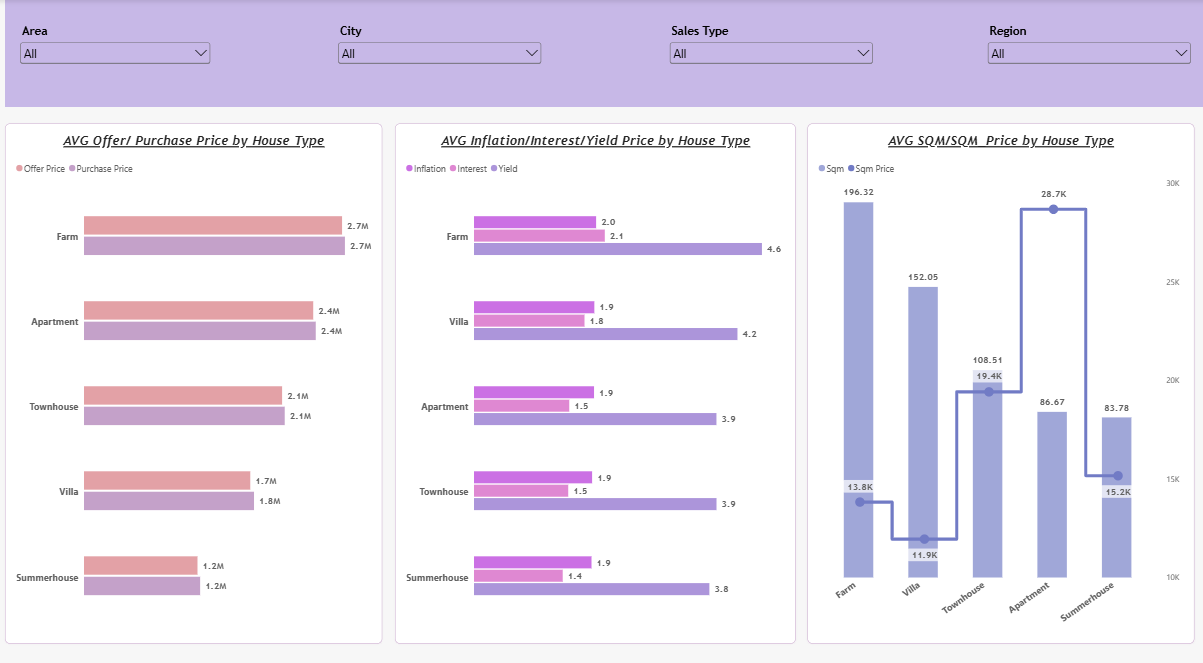

What the dashboard file says about the page in this screenshot:
{"tool":"powerbi","page":{"name":"House Type Analysis","canvas":[1920,1080],"ordinal":2},"visuals":[{"type":"shape","box":[9.5,0,1906.3,171.8],"z":0},{"type":"clusteredBarChart","title":"AVG Offer/ Purchase Price by House Type","fields":{"Category":["Housing Data.house_type"],"Y":["Avg(Housing Data.offer Price)","Avg(Housing Data.purchase_price)"]},"box":[10,197.5,600,827.5],"z":1},{"type":"clusteredBarChart","title":"AVG Inflation/Interest/Yield Price by House Type","fields":{"Category":["Housing Data.house_type"],"Y":["Avg(Housing Data.dk_ann_infl_rate%)","Avg(Housing Data.nom_interest_rate%)","Avg(Housing Data.yield_on_mortgage_credit_bonds%)"]},"box":[630,197.5,637.5,827.5],"z":2},{"type":"lineStackedColumnComboChart","title":"AVG SQM/SQM_Price by House Type","fields":{"Category":["Housing Data.house_type"],"Y":["Avg(Housing Data.sqm)"],"Y2":["Avg(Housing Data.sqm_price)"]},"box":[1285,197.5,615,827.5],"z":3},{"type":"slicer","fields":{"Values":["Housing Data.area"]},"box":[27.5,40,312.5,90],"z":4},{"type":"slicer","fields":{"Values":["Housing Data.city"]},"box":[533.8,40,333,90],"z":5},{"type":"slicer","fields":{"Values":["Housing Data.region"]},"box":[1567.5,40,333,90],"z":7},{"type":"slicer","fields":{"Values":["Housing Data.sales_type"]},"box":[1060.7,40,333,90],"z":8}]}

Visuals, with their boxes in screenshot pixels (x1, y1, x2, y2), scaled from the page's 1920x1080 canvas onto the 1203x663 screenshot:
shape: box(6, 0, 1200, 105)
"AVG Offer/ Purchase Price by House Type" clusteredBarChart: box(6, 121, 382, 629)
"AVG Inflation/Interest/Yield Price by House Type" clusteredBarChart: box(395, 121, 794, 629)
"AVG SQM/SQM_Price by House Type" lineStackedColumnComboChart: box(805, 121, 1190, 629)
slicer - Housing Data.area: box(17, 25, 213, 80)
slicer - Housing Data.city: box(334, 25, 543, 80)
slicer - Housing Data.region: box(982, 25, 1191, 80)
slicer - Housing Data.sales_type: box(665, 25, 873, 80)
